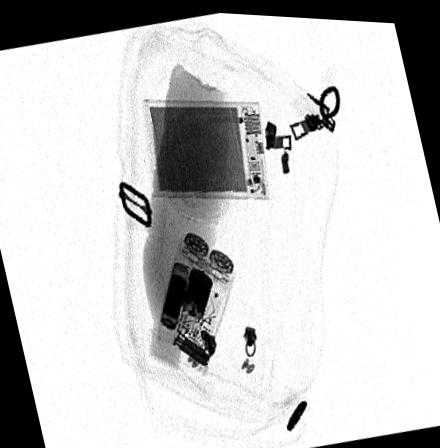Powerbank: (142, 95, 271, 194)
